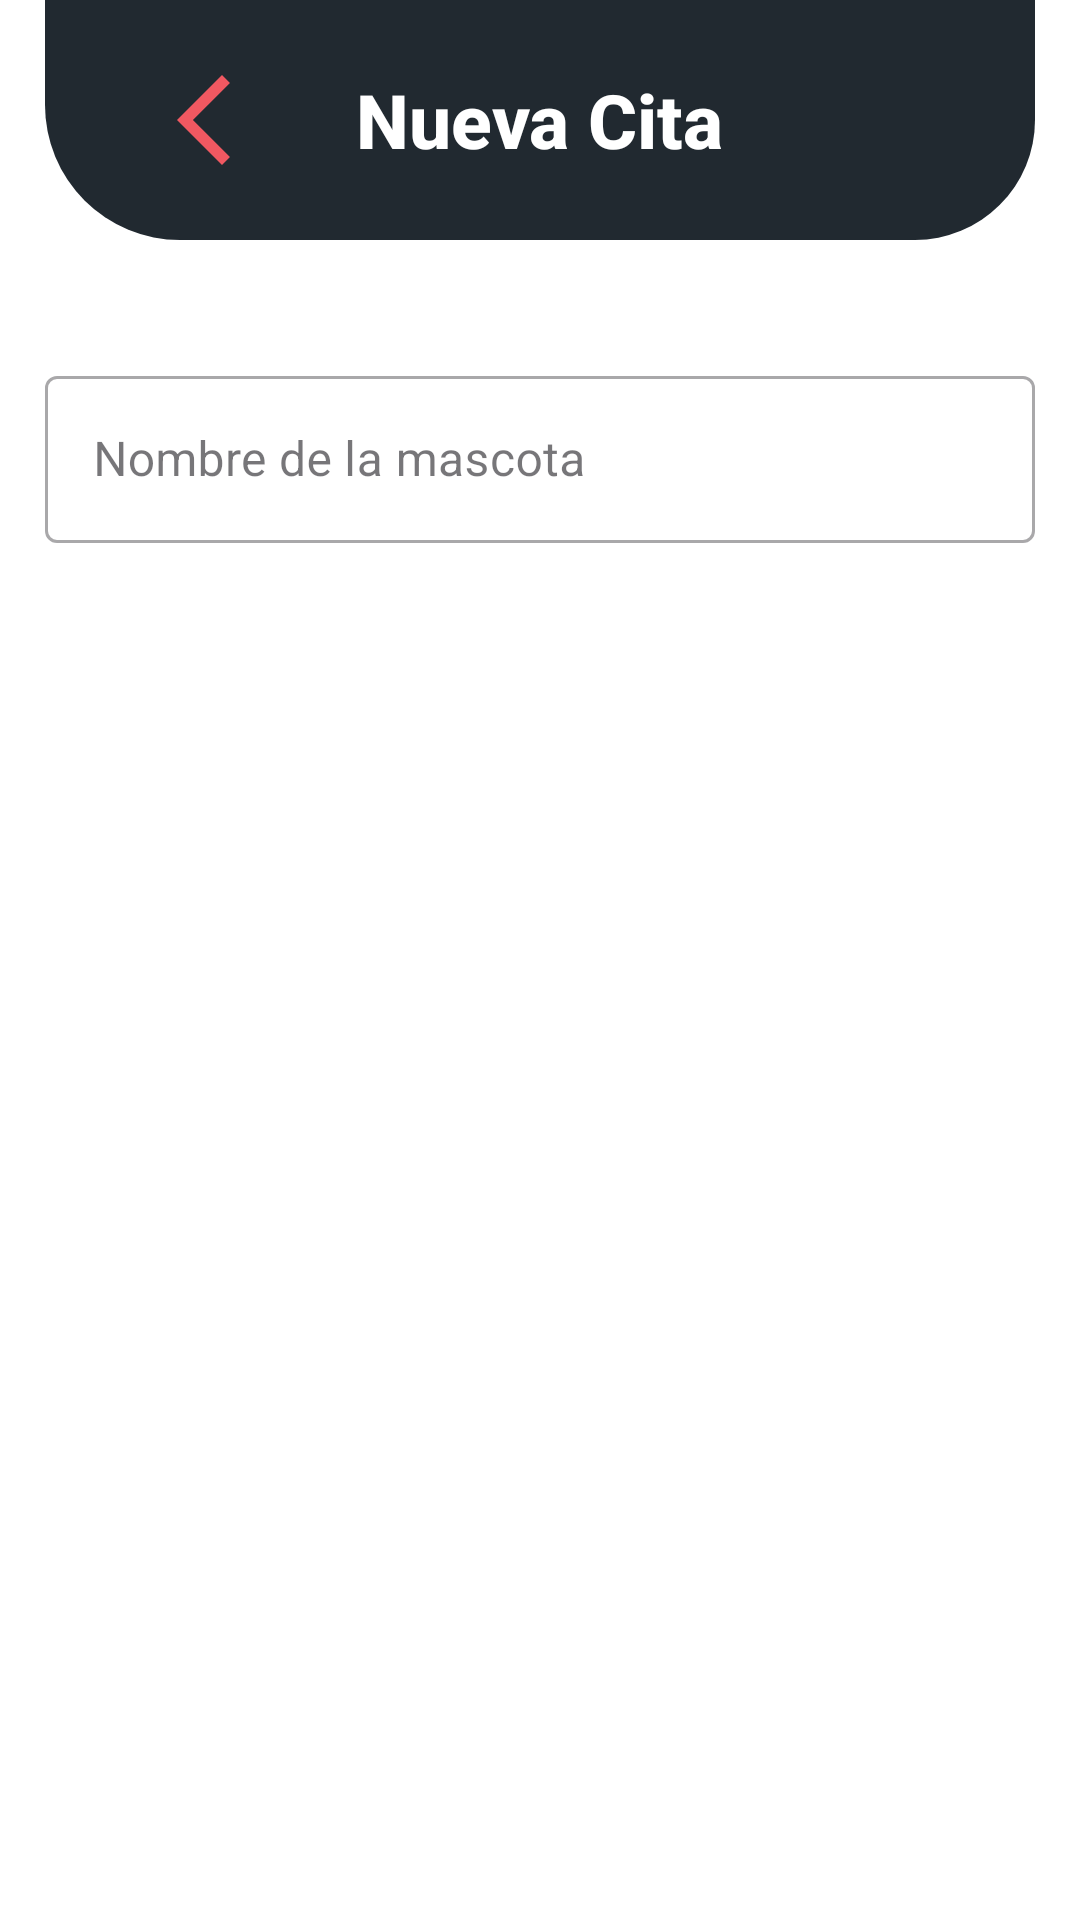

Named icons in this screenshot (1080 × 1920) and their centers, [x,y]:
arrow back: [203,120]
